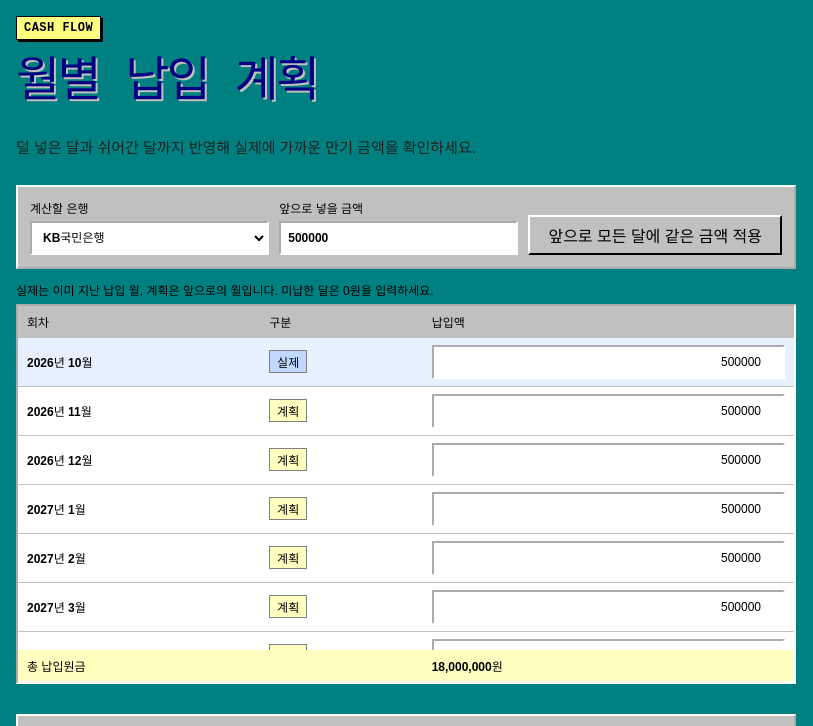
Test case: CashflowPage › applies one amount only to future months
This screenshot has width=813, height=726.
Replace the text in the number field named "1개월차 납입액" in the row of "2026년 10월" with "300000" at (608, 362), box [432,345,785,379]
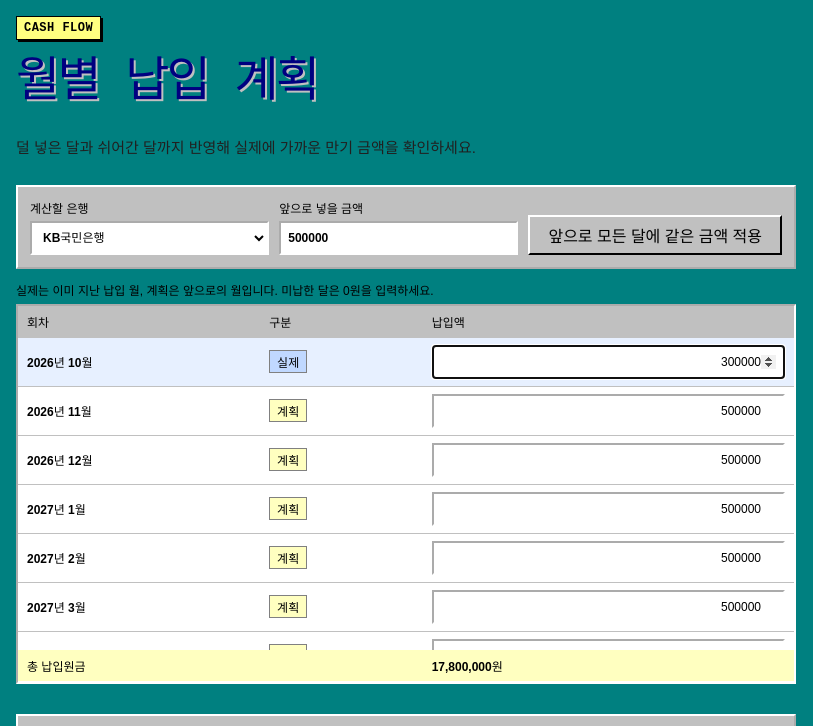
Replace the text in the number field labelled "앞으로 넣을 금액" with "200000" at (399, 238), box [279,221,518,255]
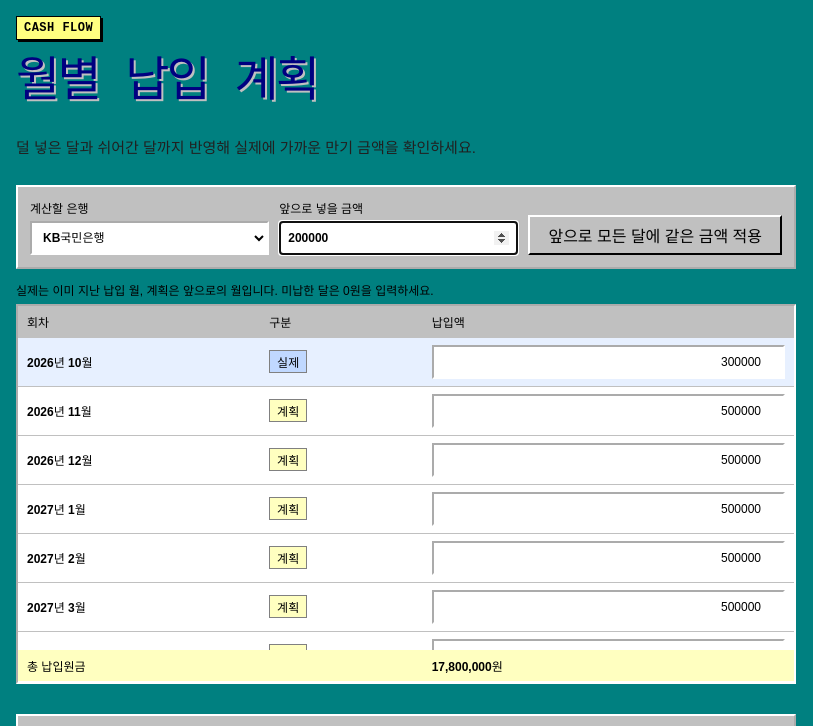
Click the button "앞으로 모든 달에 같은 금액 적용" at (655, 235), box [528,215,782,255]
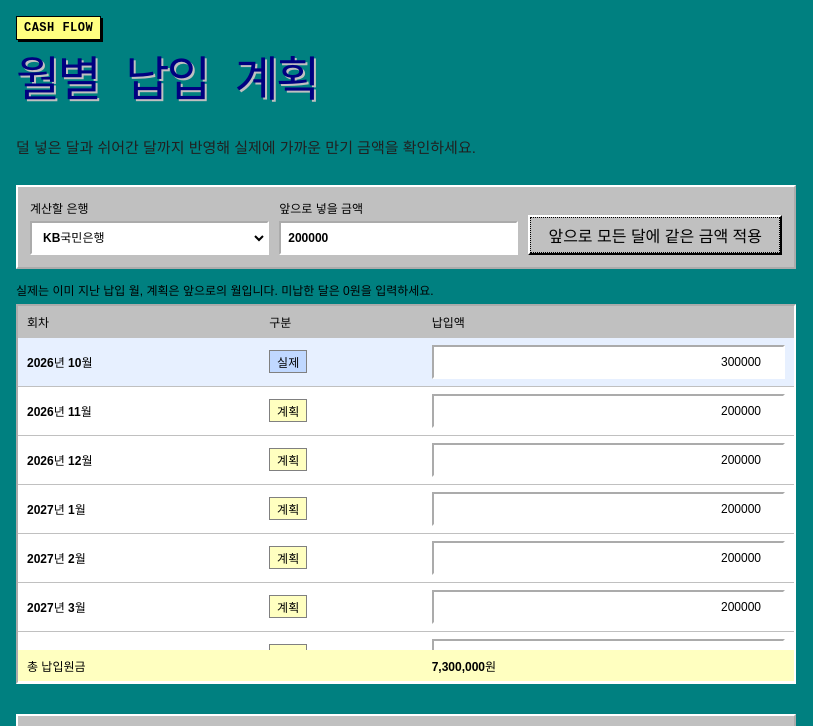
Expected: the number of elements with class "cashflow-badge--actual" is 1, [269,350,307,373]
Expected: the number field named "2개월차 납입액" in the row of "2026년 11월" holds "200000", [432,394,785,428]
